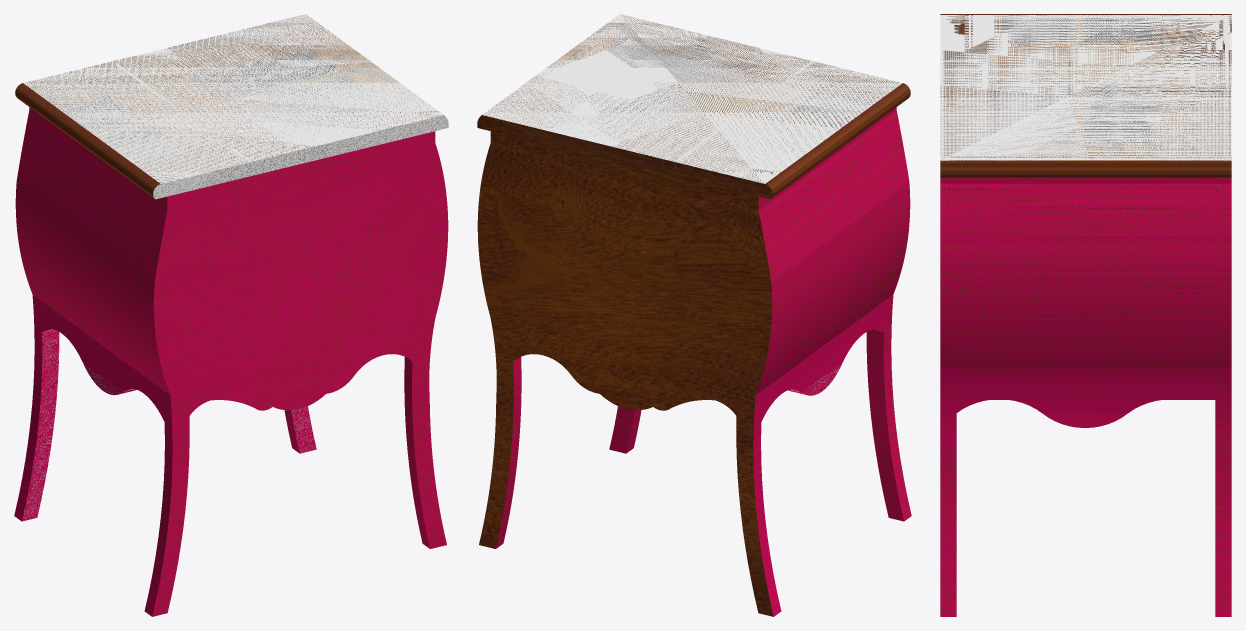
The picture shows the model from 3 angles, left to right: view 1: azimuth 30°, elevation 25°; view 2: azimuth 150°, elevation 25°; view 3: azimuth 270°, elevation 25°; orthographic projection. The views are drawn at different scales.
Visible parts, largest first — view 1: mesh1_mesh1-geometry; view 2: mesh1_mesh1-geometry; view 3: mesh1_mesh1-geometry.
Part boxes in pixels (left/top/right/bottom): mesh1_mesh1-geometry: left=14, top=14, right=448, bottom=616; mesh1_mesh1-geometry: left=477, top=14, right=911, bottom=616; mesh1_mesh1-geometry: left=940, top=14, right=1231, bottom=616.
Size of the model in its own units: 0.5288 by 0.734 by 0.4262.
